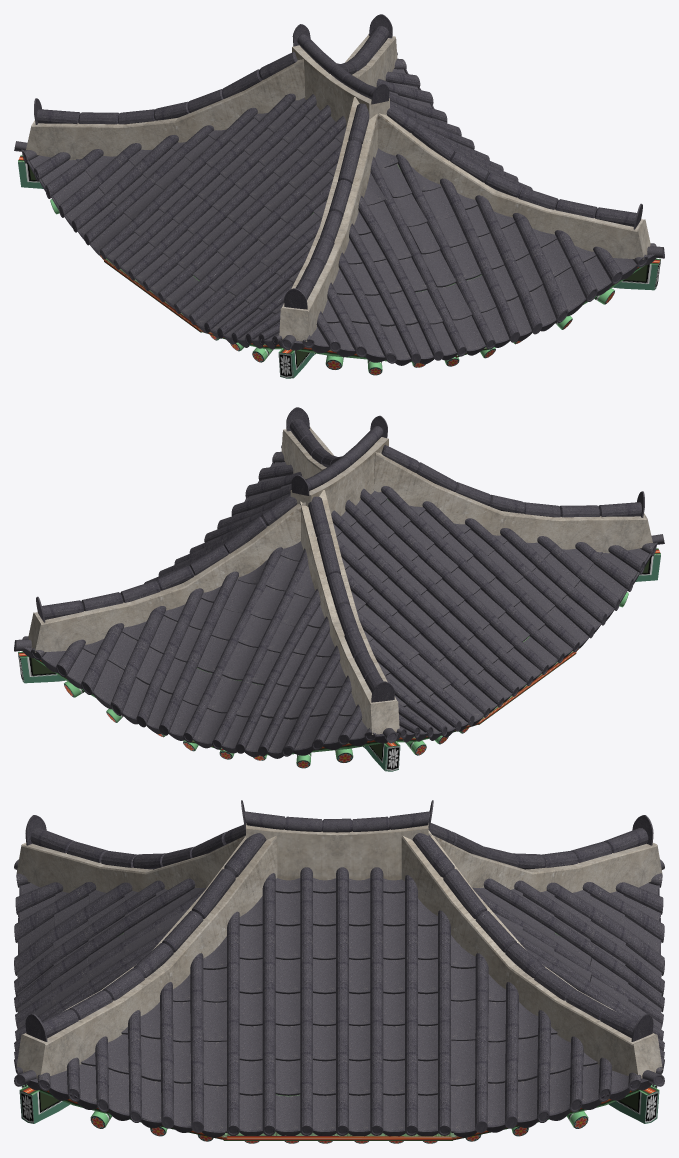
File: SM_R_Naeposa.fbx
3 views of the same model, one above another, from view 1: azimuth 30°, elevation 25°; view 2: azimuth 150°, elevation 25°; view 3: azimuth 270°, elevation 25° (orthographic). The views are drawn at different scales.
Parts seen in each view (by area): view 1: SM_R_Naeposa; view 2: SM_R_Naeposa; view 3: SM_R_Naeposa.
Boxes of the visible parts, left/top/right/bottom form: SM_R_Naeposa: left=14, top=14, right=664, bottom=378; SM_R_Naeposa: left=14, top=407, right=664, bottom=771; SM_R_Naeposa: left=14, top=800, right=664, bottom=1143.
Size of the model in its own units: 620 by 766 by 327.
Materials: 6 (6 with a texture image).
